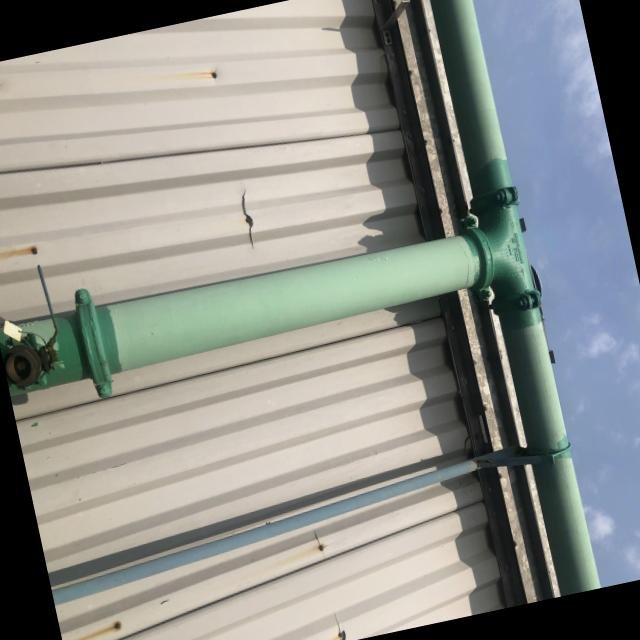gas: (421, 0, 601, 597), (64, 212, 538, 378)
